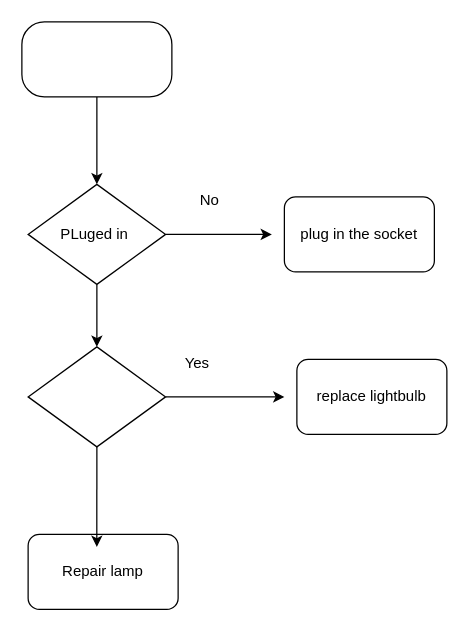
Image size: 469x631. Some labels were removed from this diagram. The shapes that lost their labels are listed below. From the top down, each one's box as (x1, y1, x2, y2) in pixels, then its label:
(21, 21, 172, 97): Lamp not working
(27, 346, 166, 447): Bulb burned out
